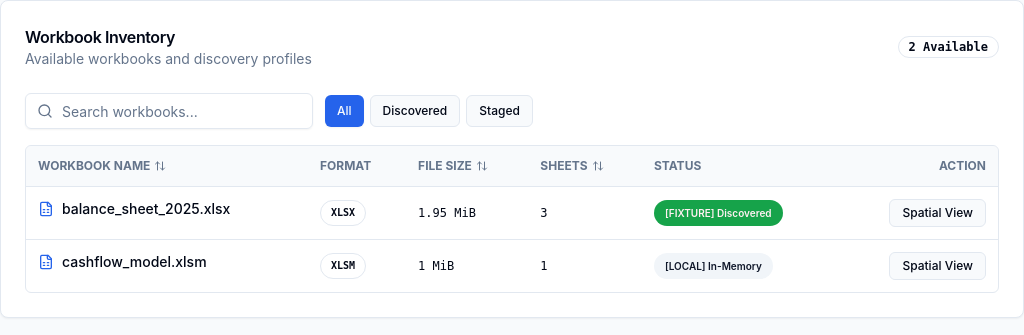
Test case: Workbook Management & Staging (F2) › WorkbookInventory › filters inventory items based on search query
Expected: the text "balance_sheet_2025.xlsx" is shown, [62, 199, 230, 219]
Expected: the text "cashflow_model.xlsm" is shown, [62, 252, 207, 272]
Type "balance" into the field with placeholder "Search workbooks...".
click(169, 111); type("balance")  # box [25, 93, 313, 129]
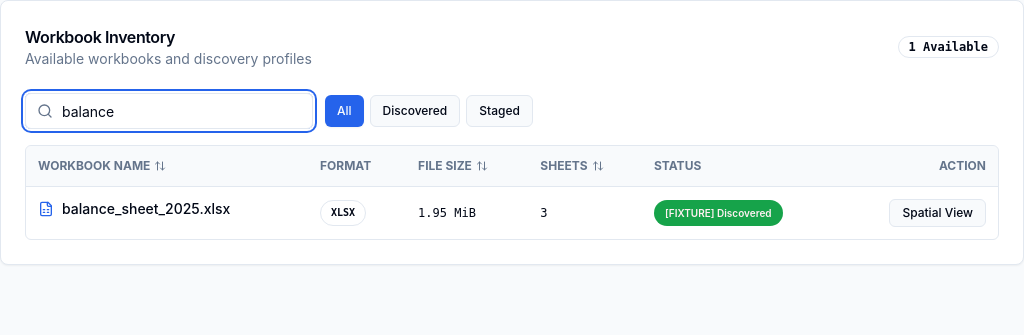
Expected: the text "balance_sheet_2025.xlsx" is shown, [62, 199, 230, 219]
Expected: the text "cashflow_model.xlsm" is gone
